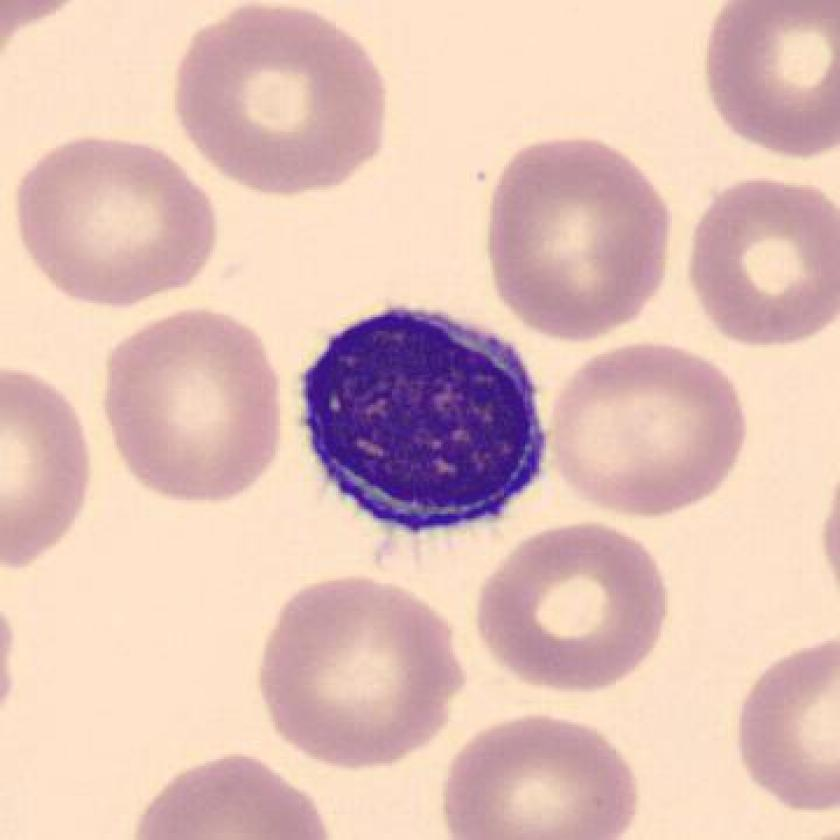lymphocyte: (288, 295, 568, 552)
